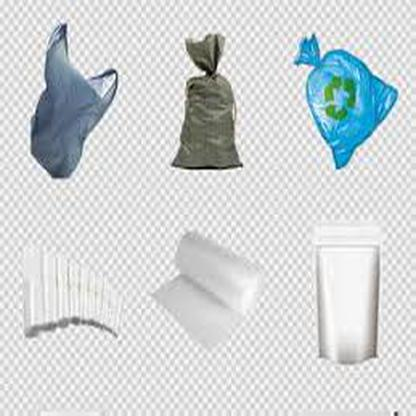plastic bag: (291, 32, 401, 171), (29, 22, 117, 177), (169, 35, 247, 171)
